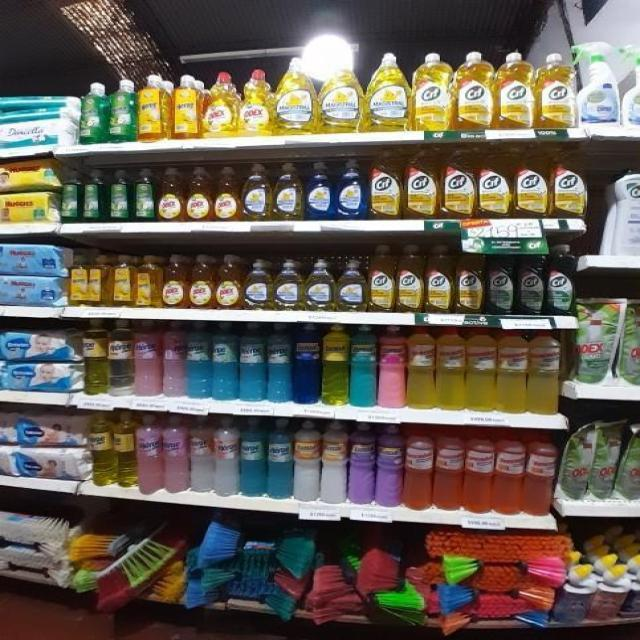cif_conc_bot_amarilla: (454, 51, 494, 131), (496, 51, 535, 130), (536, 53, 576, 129), (413, 52, 451, 131), (514, 144, 550, 219), (552, 144, 588, 219), (441, 146, 476, 219), (478, 144, 512, 219), (405, 146, 439, 220), (369, 149, 402, 220), (456, 240, 485, 315), (426, 244, 454, 314), (368, 244, 396, 313), (397, 244, 423, 313)
cif_conc_botella_verde: (546, 243, 576, 317), (487, 241, 515, 316), (516, 242, 544, 316)
esencial: (407, 325, 436, 410), (378, 324, 406, 410), (350, 324, 378, 408)
heroe: (239, 321, 266, 403), (134, 319, 162, 398), (322, 323, 348, 406), (136, 413, 162, 493), (163, 413, 188, 494), (240, 417, 265, 498), (267, 418, 292, 499), (267, 322, 292, 403), (214, 416, 238, 496), (186, 321, 210, 400), (190, 414, 213, 494), (162, 320, 185, 399)
magistral_con_amarillo: (365, 52, 410, 132), (319, 59, 362, 133), (275, 58, 316, 135), (273, 162, 303, 221), (242, 164, 272, 221), (304, 259, 335, 312), (336, 260, 366, 312), (243, 259, 272, 310), (274, 259, 302, 311)
magistral_con_azul: (336, 158, 366, 220), (305, 161, 334, 220), (623, 44, 640, 128)
odex: (204, 70, 239, 138), (240, 68, 273, 136), (214, 166, 240, 222), (186, 166, 212, 222), (216, 254, 242, 309), (162, 254, 188, 308), (189, 254, 214, 309)
